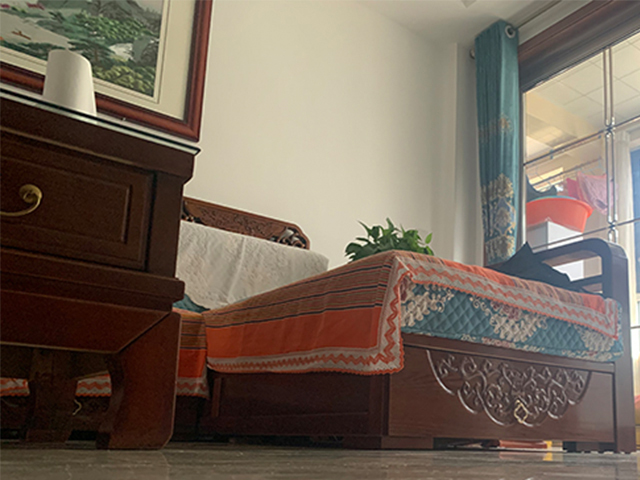curtain: (470, 18, 530, 265)
table: (172, 194, 639, 455), (1, 86, 201, 450)
